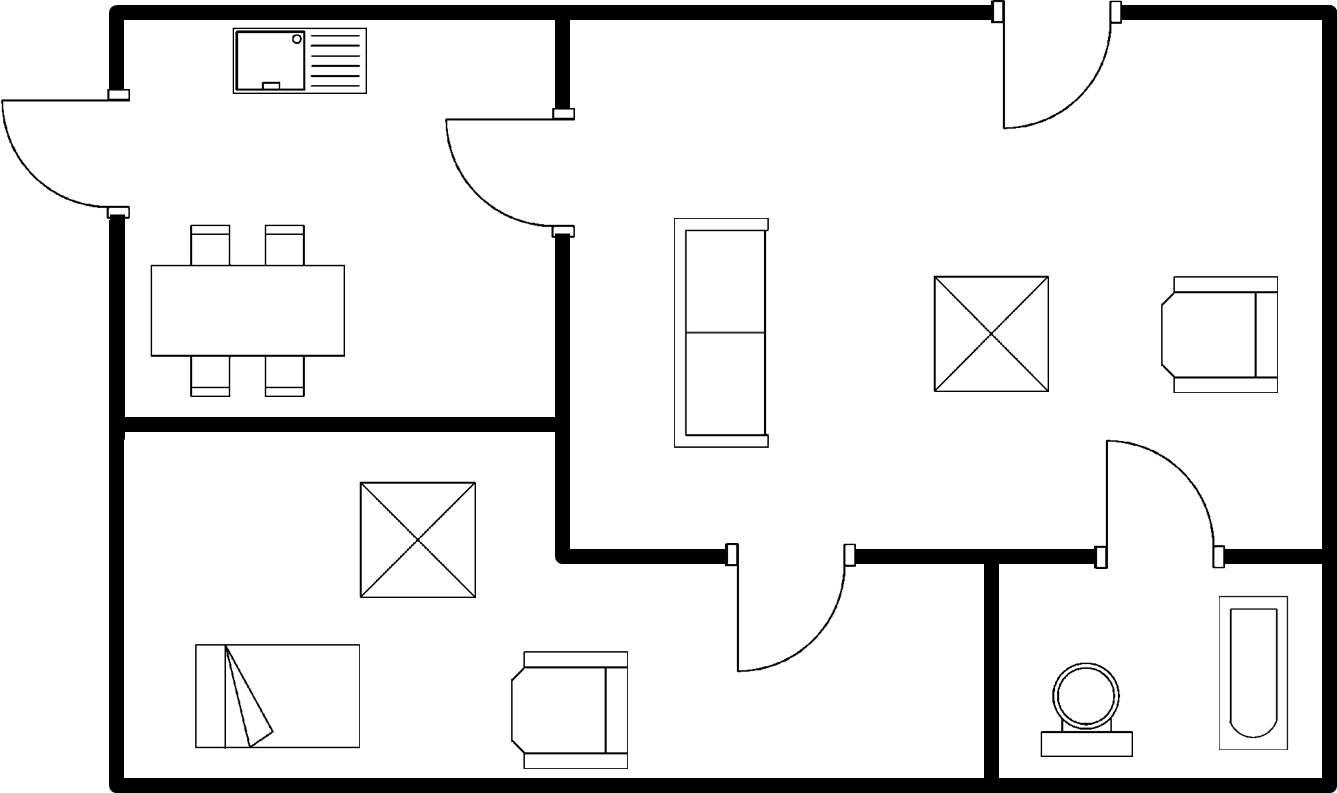bed: (186, 637, 364, 753)
dining_table: (144, 218, 351, 402)
sink: (225, 22, 372, 101)
sofa: (666, 210, 775, 459)
toilet: (1034, 654, 1137, 764)
tub: (1210, 589, 1292, 753)
